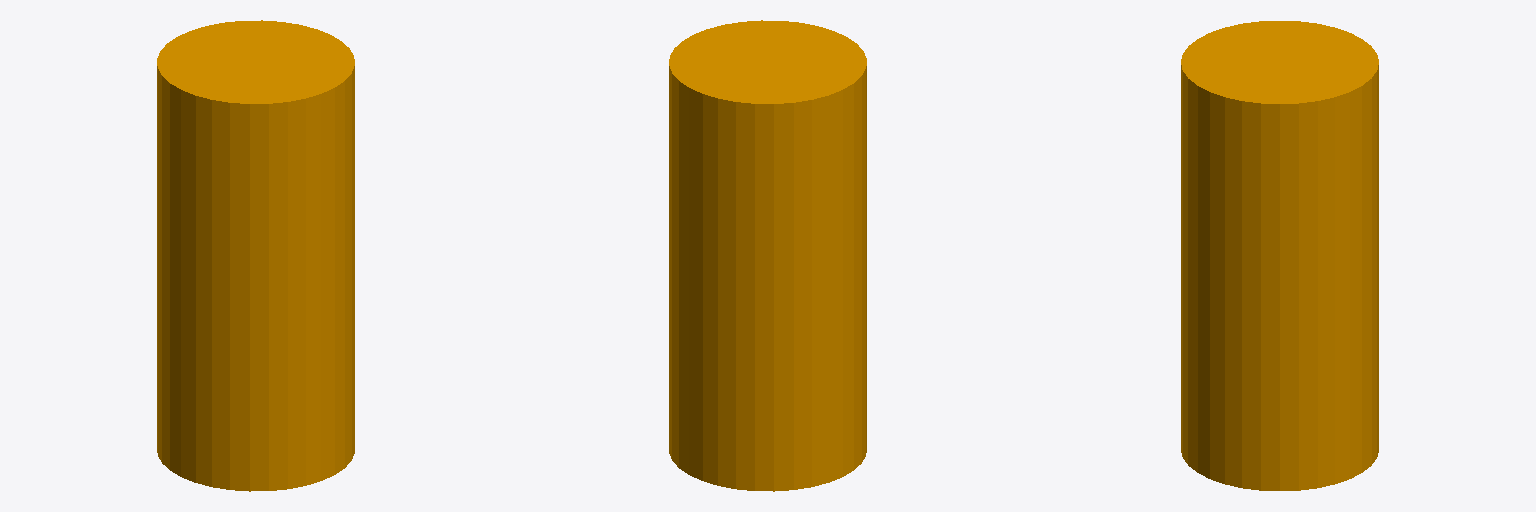
URDF robot description (reskin_force_sensor):
<robot name="reskin_force_sensor">
  <link name="reskin_force_sensor">
    <visual>
      <origin xyz="0 0 0" />
      <geometry>
        <cylinder length="0.028" radius="0.0065" />
      </geometry>
    </visual>

    <collision>
      <origin xyz="0 0 0" />
      <geometry>
        <cylinder length="0.028" radius="0.0065" />
      </geometry>
    </collision>

    <inertial>
      <mass value="0.25" />
      <inertia ixx="0.0001" ixy="0.0" ixz="0.0" iyy="0.0001" iyz="0.0" izz="0.0001" />
    </inertial>
  </link>
</robot>

--- Render facts (derived) ---
Views: 3 orthographic renders of the robot side by side, from view 1: azimuth 30°, elevation 25°; view 2: azimuth 150°, elevation 25°; view 3: azimuth 270°, elevation 25°.
Model reskin_force_sensor with 1 links and 0 joints (none), rooted at reskin_force_sensor, posed every joint at zero.
Links seen in each view (by area): view 1: reskin_force_sensor; view 2: reskin_force_sensor; view 3: reskin_force_sensor.
Boxes of the visible links, x1,y1,x2,y2 form: reskin_force_sensor: (157, 20, 354, 491); reskin_force_sensor: (669, 20, 866, 491); reskin_force_sensor: (1181, 21, 1378, 490).
Size in the robot's own frame: 0.013 by 0.013 by 0.028 metres.
Geometry: primitives only (box / cylinder / sphere), no mesh files.